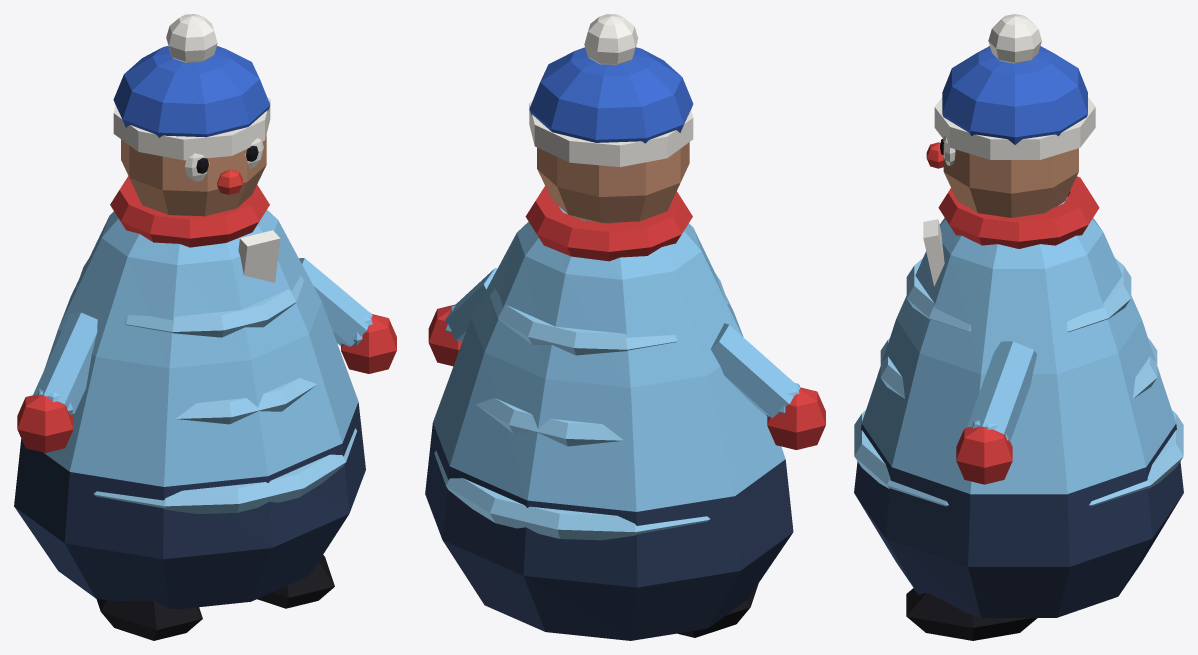
Rendered from npc_copito.glb.
3 renders of one model, left to right at view 1: azimuth 30°, elevation 25°; view 2: azimuth 150°, elevation 25°; view 3: azimuth 270°, elevation 25°, orthographic. The views are drawn at different scales.
Parts seen in each view (by area): view 1: body_copito_jacket, body_copito_pants, body_copito_puff (×3), hat_copito_beanie, arms_copito_jacket, head_skin_morena, hat_white, scarf_copito_scarf, arms_copito_scarf, legs_black, scarf_white, face_white; view 2: body_copito_jacket, body_copito_pants, body_copito_puff (×3), hat_copito_beanie, head_skin_morena, scarf_copito_scarf, hat_white, arms_copito_jacket, arms_copito_scarf, legs_black; view 3: body_copito_jacket, body_copito_pants, hat_copito_beanie, body_copito_puff (×3), head_skin_morena, hat_white, scarf_copito_scarf, arms_copito_jacket, legs_black, arms_copito_scarf, scarf_white.
Part boxes in pixels (left/top/right/bottom): body_copito_jacket: left=44, top=210, right=358, bottom=486; body_copito_pants: left=14, top=402, right=365, bottom=609; body_copito_puff (×3): left=76, top=259, right=356, bottom=513; hat_copito_beanie: left=113, top=46, right=270, bottom=137; arms_copito_jacket: left=33, top=258, right=372, bottom=415; head_skin_morena: left=121, top=135, right=266, bottom=216; hat_white: left=113, top=14, right=270, bottom=160; scarf_copito_scarf: left=110, top=176, right=269, bottom=247; arms_copito_scarf: left=17, top=314, right=396, bottom=452; legs_black: left=96, top=555, right=334, bottom=640; scarf_white: left=238, top=230, right=280, bottom=282; face_white: left=184, top=138, right=263, bottom=181; body_copito_jacket: left=433, top=207, right=785, bottom=511; body_copito_pants: left=425, top=423, right=793, bottom=640; body_copito_puff (×3): left=434, top=273, right=728, bottom=540; hat_copito_beanie: left=529, top=47, right=693, bottom=143; head_skin_morena: left=537, top=142, right=689, bottom=223; scarf_copito_scarf: left=525, top=186, right=692, bottom=261; hat_white: left=529, top=14, right=693, bottom=166; arms_copito_jacket: left=445, top=268, right=800, bottom=418; arms_copito_scarf: left=428, top=304, right=825, bottom=449; legs_black: left=677, top=583, right=758, bottom=637; body_copito_jacket: left=861, top=197, right=1176, bottom=494; body_copito_pants: left=854, top=424, right=1183, bottom=617; hat_copito_beanie: left=942, top=46, right=1087, bottom=144; body_copito_puff (×3): left=854, top=258, right=1183, bottom=506; head_skin_morena: left=943, top=148, right=1078, bottom=217; hat_white: left=934, top=14, right=1095, bottom=159; scarf_copito_scarf: left=938, top=176, right=1099, bottom=248; arms_copito_jacket: left=967, top=341, right=1037, bottom=441; legs_black: left=906, top=588, right=1037, bottom=640; arms_copito_scarf: left=956, top=426, right=1012, bottom=484; scarf_white: left=923, top=219, right=944, bottom=286.
Size of the model in its own units: 1.15 by 1.68 by 0.86.
